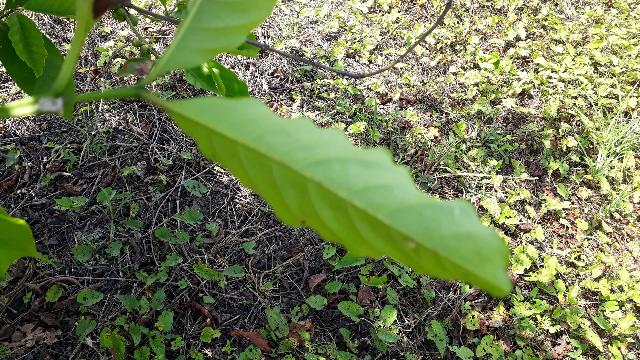healthy: (126, 58, 480, 267)
